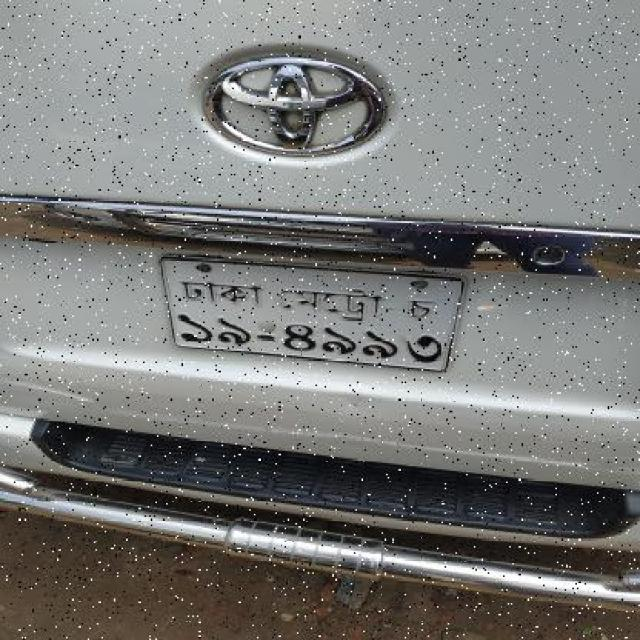numberplate: (158, 252, 464, 372)
